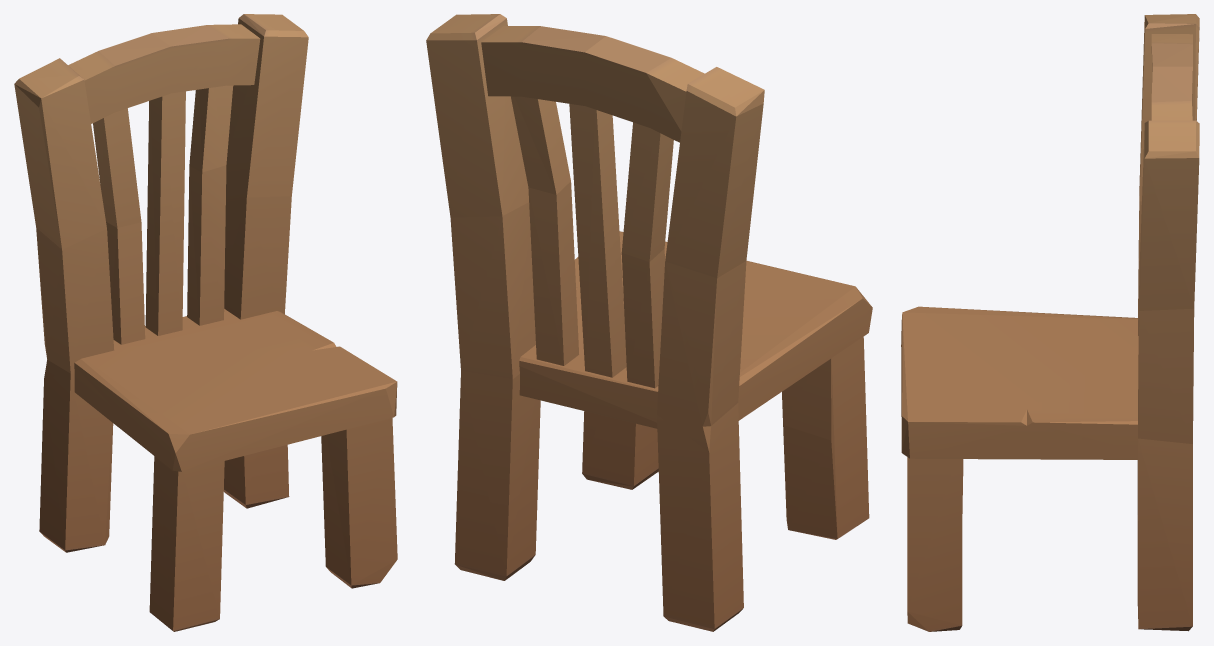
The model's file is SM_Chair_01.fbx.
3 renders of one model, left to right at view 1: azimuth 30°, elevation 25°; view 2: azimuth 150°, elevation 25°; view 3: azimuth 270°, elevation 25°, orthographic. The views are drawn at different scales.
Parts seen in each view (by area): view 1: SM_Chair_01; view 2: SM_Chair_01; view 3: SM_Chair_01.
Part boxes in pixels (<box>): SM_Chair_01: <box>14,14,397,631</box>; SM_Chair_01: <box>426,14,872,631</box>; SM_Chair_01: <box>901,14,1199,631</box>.
Bounding box in the file's own units: 60 × 102 × 54.13.
